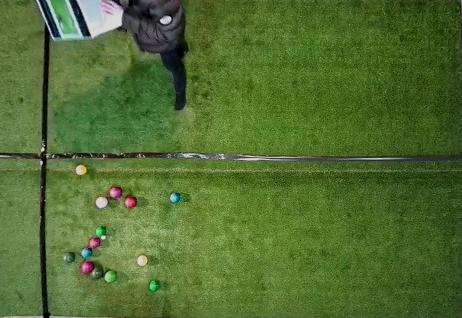blue: (81, 247, 92, 258), (170, 192, 180, 202)
green: (104, 271, 116, 282), (64, 252, 74, 263), (92, 268, 102, 279), (96, 226, 106, 236), (149, 281, 159, 291)
red: (81, 261, 94, 274), (125, 196, 137, 209), (110, 187, 122, 198), (96, 197, 108, 208), (89, 237, 100, 248)
vline: (1, 36, 50, 317)
white: (101, 235, 106, 240)
yellow: (76, 164, 87, 175), (137, 255, 148, 266)
